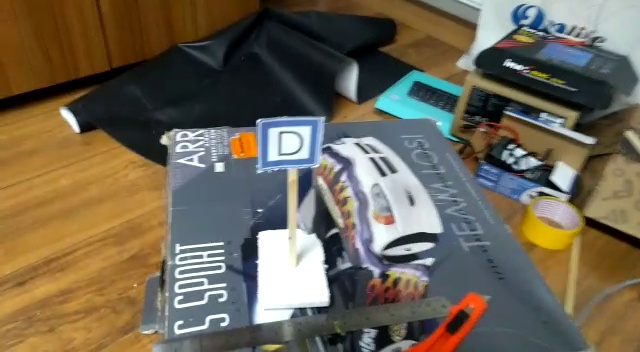durak: (258, 123, 319, 167)
